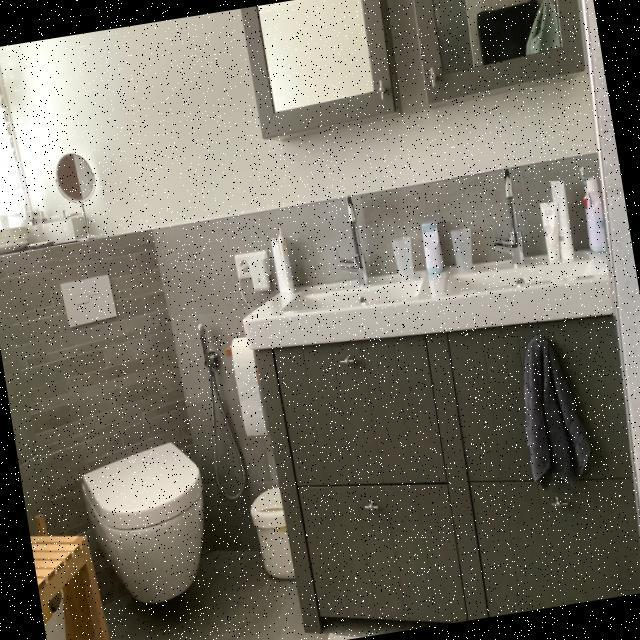toilet: (48, 262, 218, 614)
wastafel: (250, 290, 640, 640), (225, 152, 612, 340)
